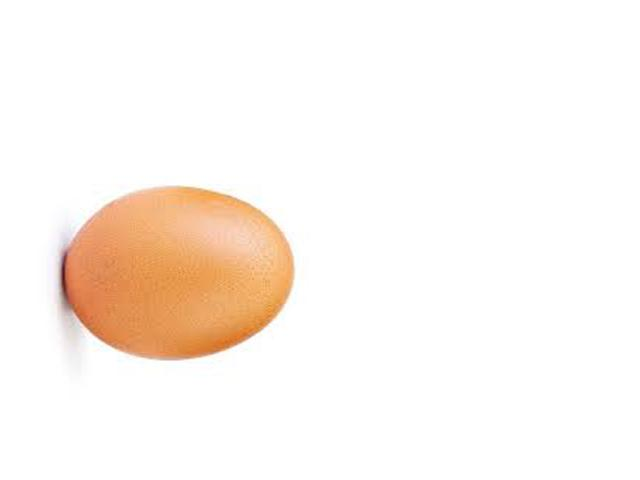egg: (64, 187, 290, 359)
